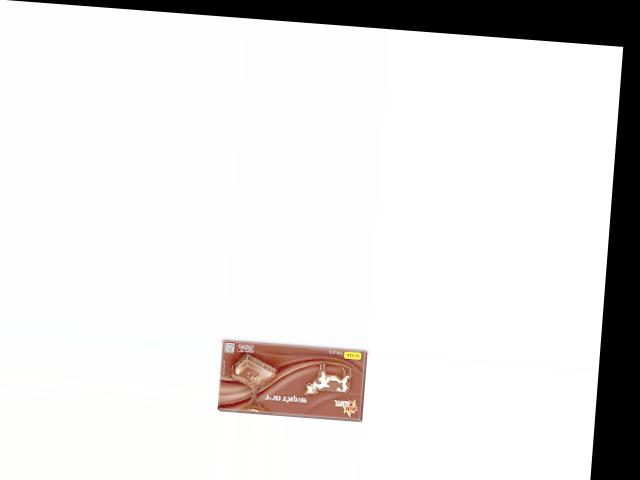chocolate: (218, 339, 371, 423)
